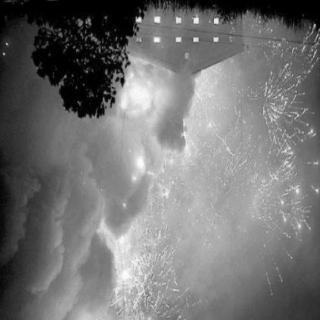other: (121, 236, 195, 320)
